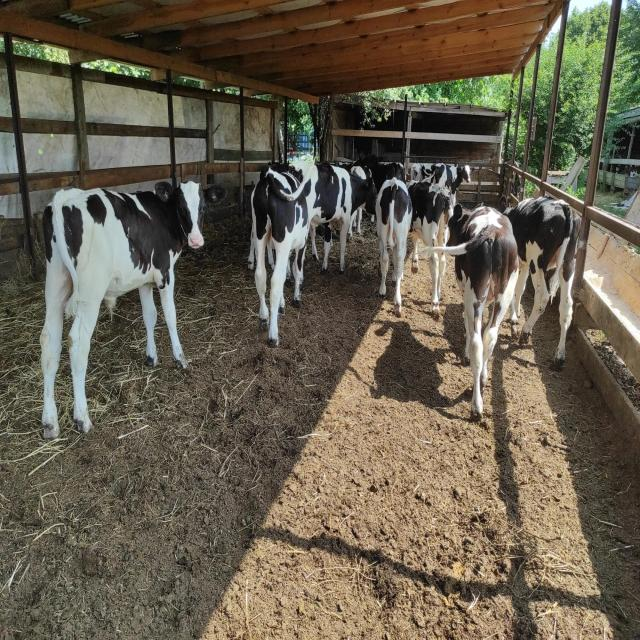cow: (39, 179, 227, 440), (419, 202, 520, 421), (501, 194, 582, 368), (248, 160, 315, 347), (406, 178, 455, 320), (374, 176, 413, 318)
